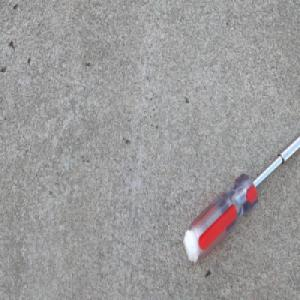Screwdriver: (182, 131, 300, 264)
